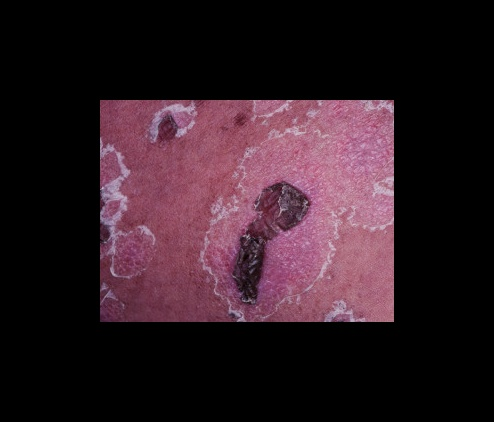SJS-TEN: (100, 99, 395, 322)
